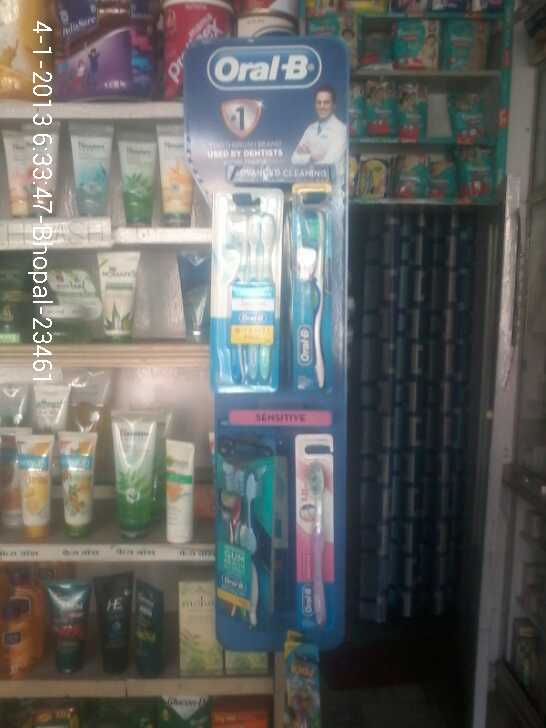pharmacy: (211, 190, 284, 393), (216, 428, 279, 630), (286, 192, 340, 394), (293, 433, 332, 632), (445, 14, 500, 72), (446, 78, 494, 142), (391, 16, 442, 74), (464, 150, 501, 203), (364, 78, 396, 138), (399, 81, 431, 141), (395, 144, 426, 200), (428, 155, 460, 201)
